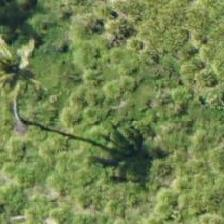coconut_tree: (0, 26, 48, 116)
